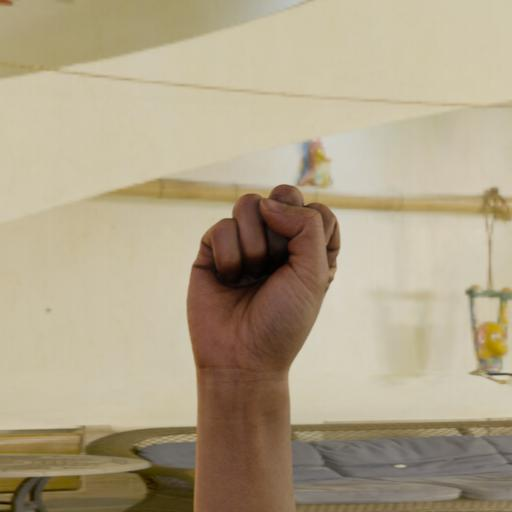S: (181, 177, 343, 379)
